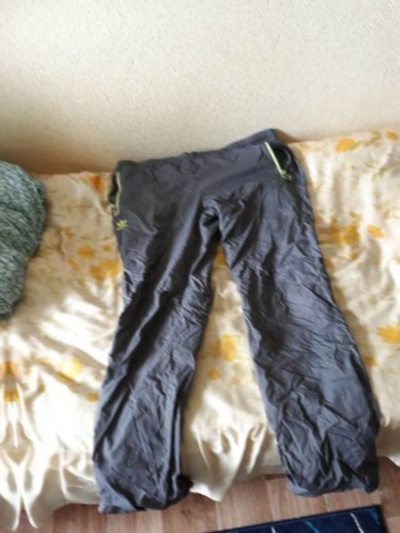Pants: (46, 98, 368, 527)
